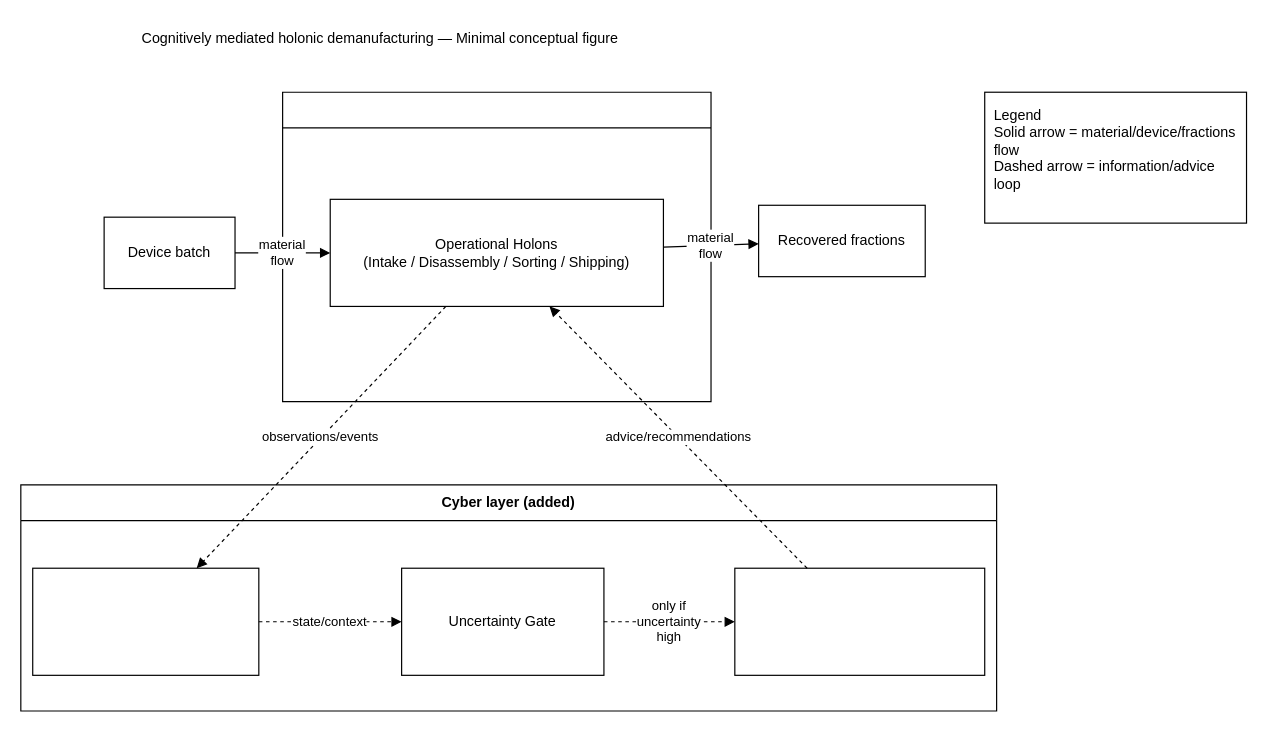
Some shapes in this 1267 by 732 pixel diagram are drawn without their labels. Each missing label, with the box of its shape:
Cognitive Mediator (Policies + Episodes): (734, 567, 985, 675)
Digital Twin + Trace: (32, 567, 259, 675)
Physical system (shopfloor): (281, 91, 711, 402)
